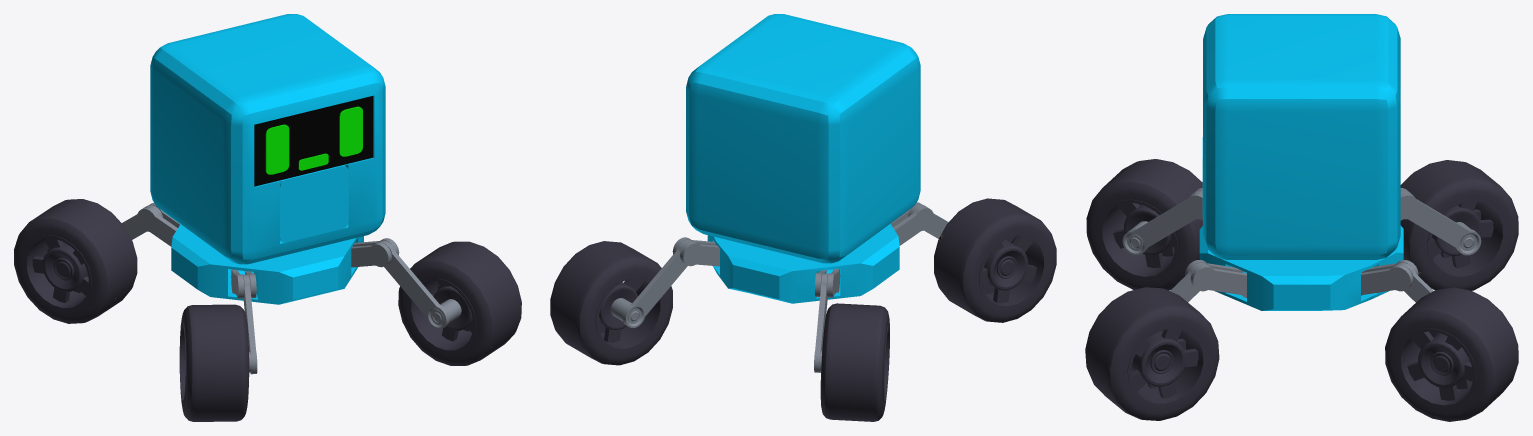
The model's file is Tank1.fbx.
3 renders of one model, left to right at view 1: azimuth 30°, elevation 25°; view 2: azimuth 150°, elevation 25°; view 3: azimuth 270°, elevation 25°, orthographic. The views are drawn at different scales.
Parts seen in each view (by area): view 1: face6; view 2: face6; view 3: face6.
Boxes of the visible parts, bbox=[...] form: face6: bbox=[14, 14, 521, 421]; face6: bbox=[550, 14, 1056, 421]; face6: bbox=[1085, 14, 1518, 421].
Size of the model in its own units: 60.44 by 48.76 by 63.87.
